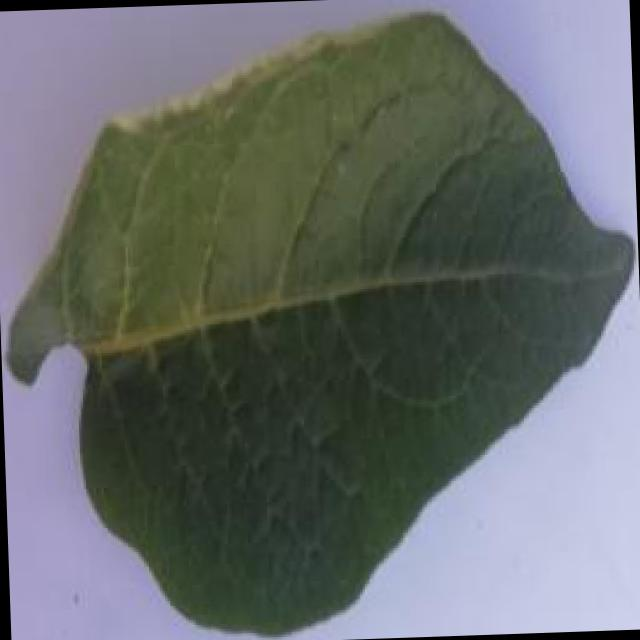Potato_Healthy: (0, 3, 635, 640)
